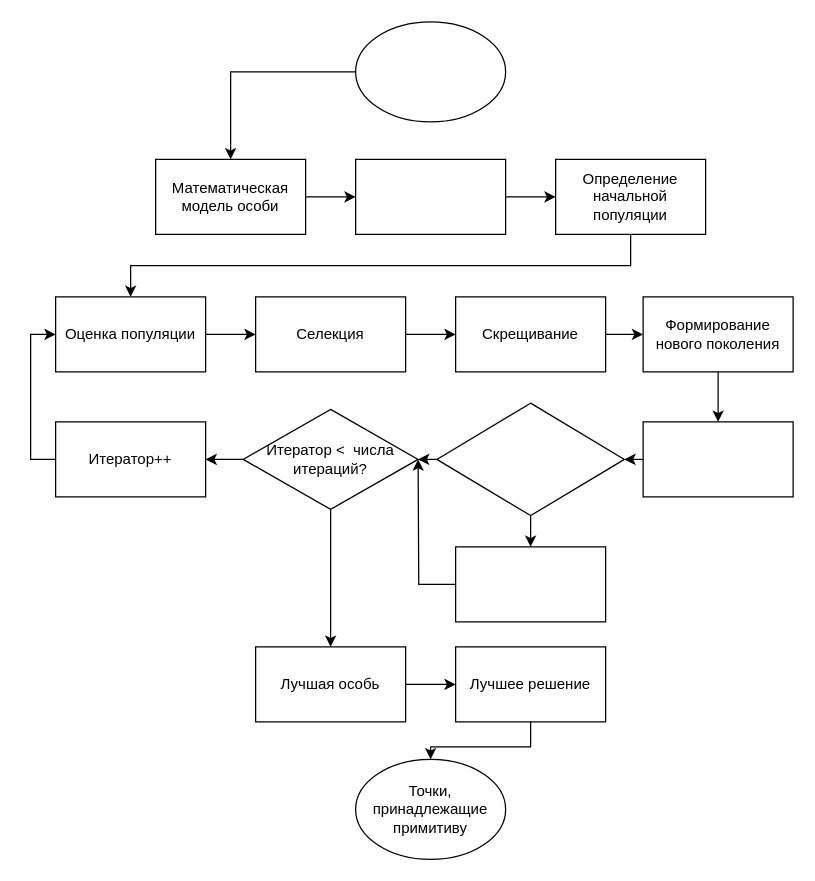
This 815x881 diagram has some shape labels left out. The centre of each missing label's shape, as x and y in pixels:
F>F_max?: the point at 530,459
F_max = F: the point at 530,584
Мутация: the point at 717,459
Определение функции приспособленности F: the point at 430,196
Параметры примитива, F_max: the point at 430,71
